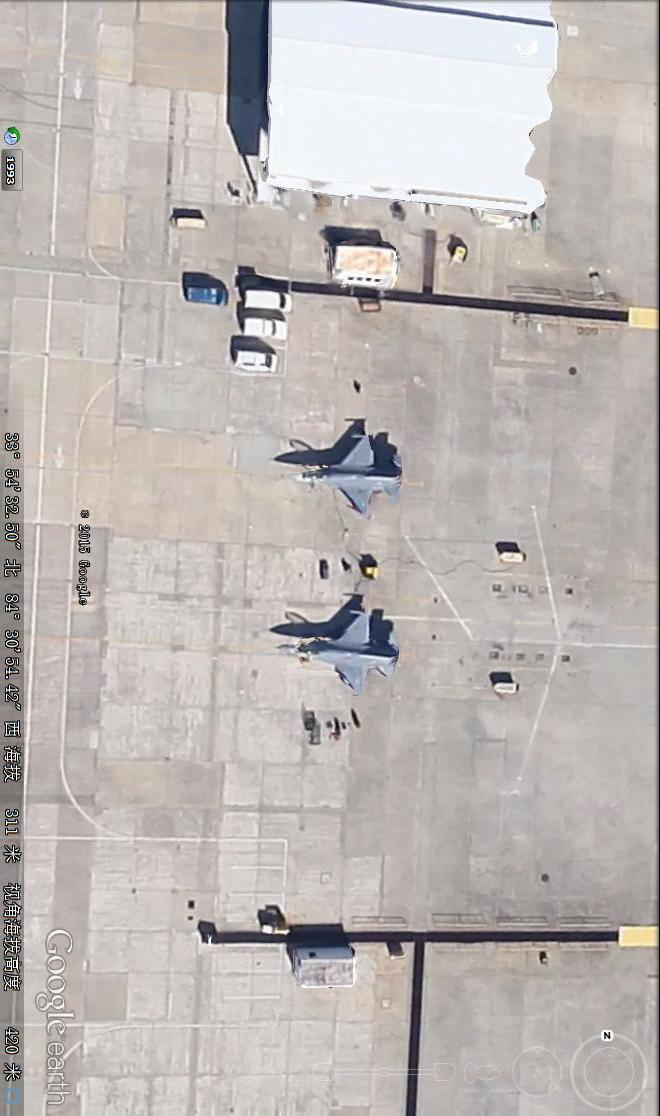F-16: (282, 598, 404, 692), (288, 434, 410, 516)
